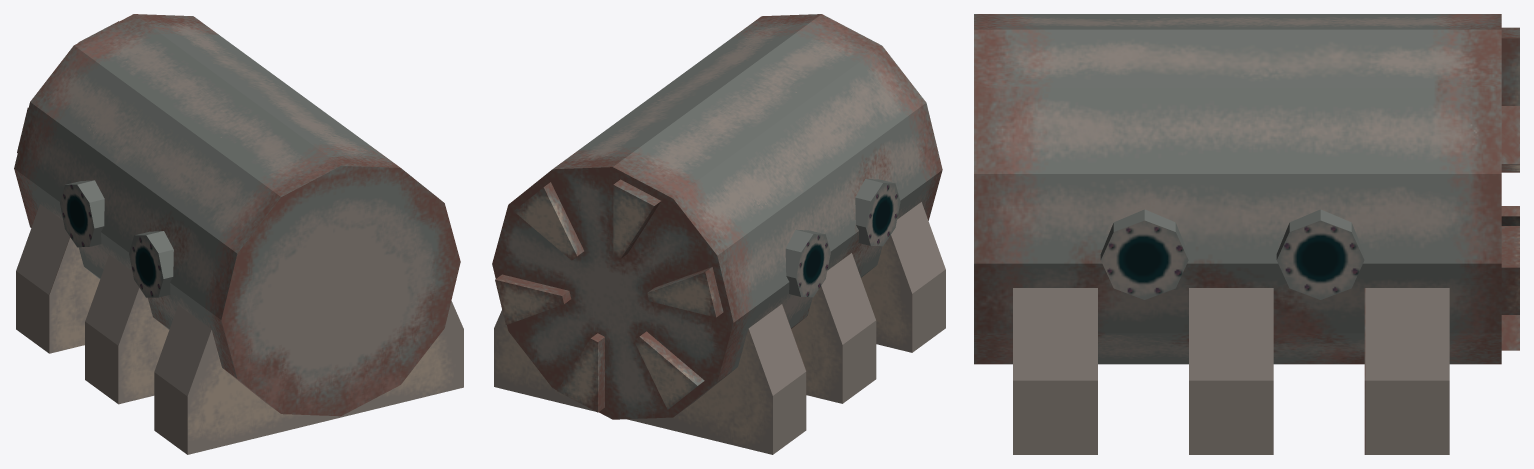
File: Machine.fbx
The picture shows the model from 3 angles, left to right: view 1: azimuth 30°, elevation 25°; view 2: azimuth 150°, elevation 25°; view 3: azimuth 270°, elevation 25°; orthographic projection. The views are drawn at different scales.
Parts seen in each view (by area): view 1: Cube.002; view 2: Cube.002; view 3: Cube.002.
Part boxes in pixels (box(x1,y1,x2,y2)): Cube.002: box(14, 14, 463, 454); Cube.002: box(492, 14, 945, 454); Cube.002: box(974, 14, 1519, 454).
Bounding box in the file's own units: 231 × 213 × 310.
